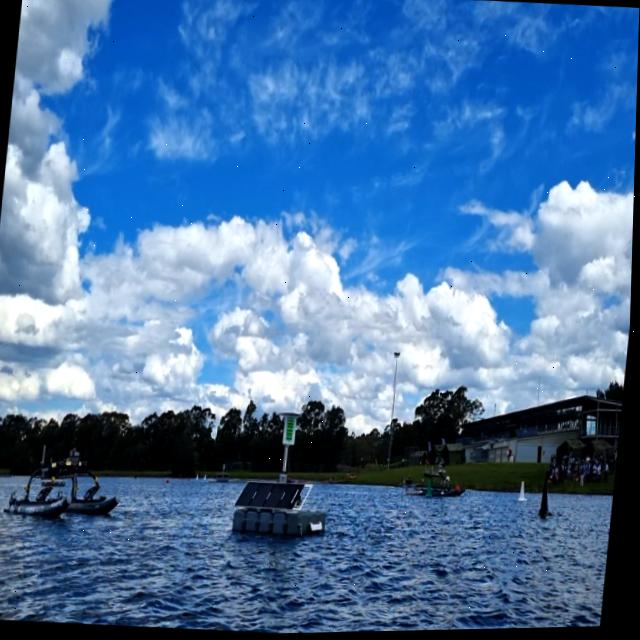led: (286, 416, 299, 445)
